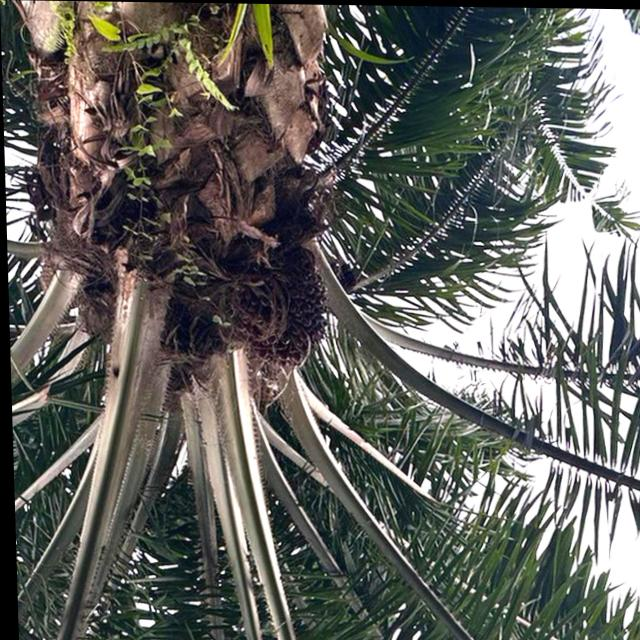ripe: (211, 246, 339, 386)
